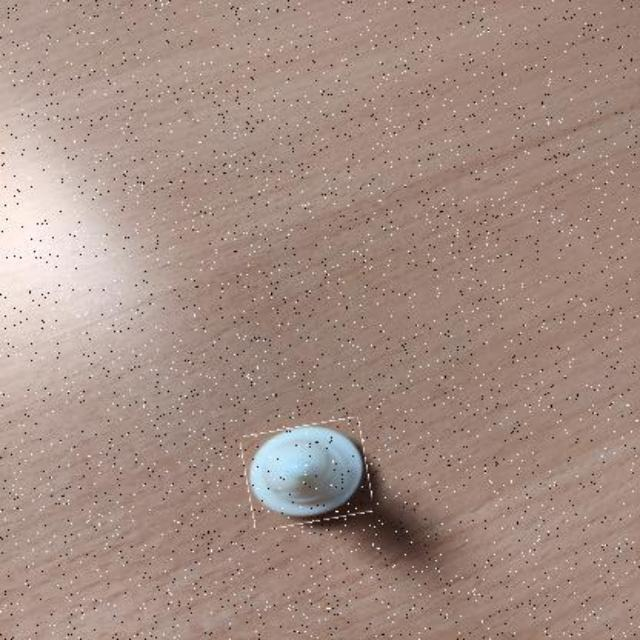white-bishop: (243, 423, 370, 527)
